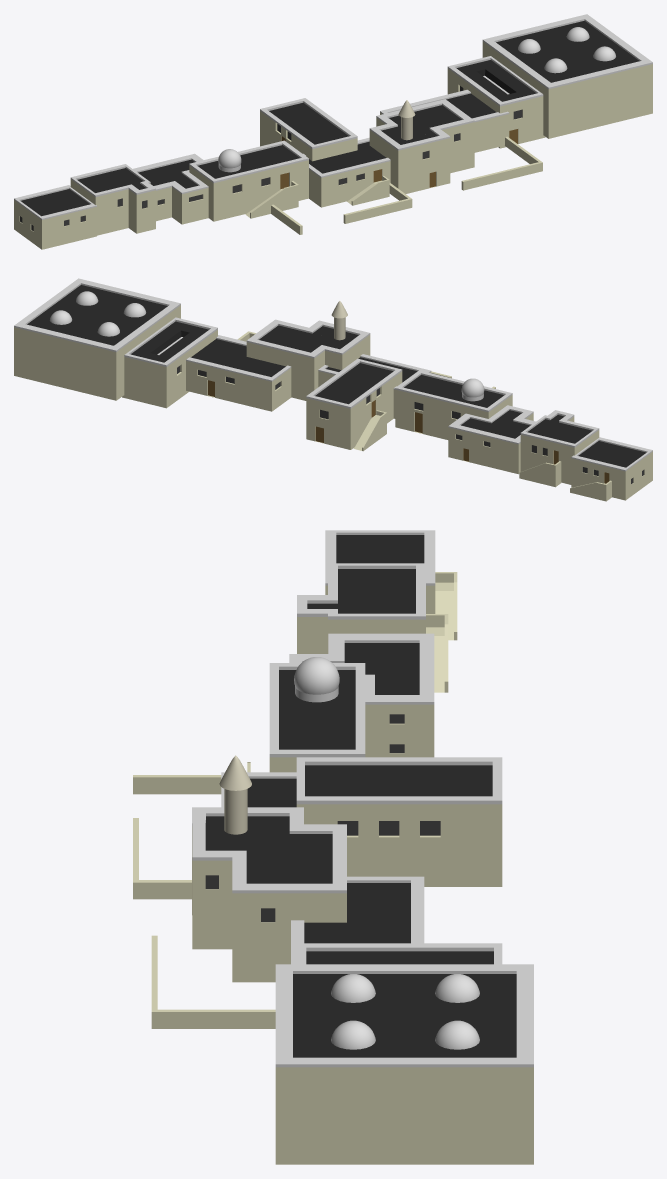
The model's file is house6.obj.
The picture shows the model from 3 angles, top to bottom: view 1: azimuth 30°, elevation 25°; view 2: azimuth 150°, elevation 25°; view 3: azimuth 270°, elevation 25°; orthographic projection. The views are drawn at different scales.
Visible parts, largest first — view 1: unnamed_object1_pasted__pasted__pasted__pasted__pasted__pasted__, unnamed_object1_pasted__lambert10SG3, unnamed_object1_pasted__pasted__lambert10SG2, unnamed_object1_pasted__lambert4SG6, unnamed_object1_pasted__pasted__pasted__pasted__pasted__lambert2, unnamed_object1_pasted__pasted__pasted__pasted__lambert2SG3, unnamed_object1_pasted__lambert3SG7, unnamed_object1_pasted__pasted__pasted__pasted__pasted__lambert4, unnamed_object1_pasted__pasted__pasted__lambert2SG25, unnamed_object1_pasted__pasted__pasted__pasted__pasted__lambert3, unnamed_object1_pasted__pasted__lambert3SG9, unnamed_object1_pasted__pasted__pasted__pasted__lambert4SG3 (+14 smaller); view 2: unnamed_object1_pasted__pasted__pasted__pasted__pasted__pasted__, unnamed_object1_pasted__pasted__pasted__pasted__pasted__lambert2, unnamed_object1_pasted__lambert10SG3, unnamed_object1_pasted__lambert4SG6, unnamed_object1_pasted__pasted__pasted__pasted__pasted__lambert4, unnamed_object1_pasted__pasted__lambert10SG2, unnamed_object1_pasted__lambert3SG7, unnamed_object1_pasted__pasted__pasted__lambert2SG25, unnamed_object1_pasted__pasted__pasted__pasted__lambert2SG3, unnamed_object1_pasted__pasted__pasted__pasted__pasted__lambert3, unnamed_object1_pasted__pasted__lambert3SG9, unnamed_object1_pasted__pasted__lambert4SG10 (+9 smaller); view 3: unnamed_object1_pasted__pasted__pasted__pasted__pasted__pasted__, unnamed_object1_pasted__lambert10SG3, unnamed_object1_pasted__lambert4SG6, unnamed_object1_pasted__pasted__lambert10SG2, unnamed_object1_pasted__lambert3SG7, unnamed_object1_pasted__pasted__pasted__pasted__pasted__lambert4, unnamed_object1_pasted__pasted__lambert3SG9, unnamed_object1_pasted__pasted__lambert4SG10, unnamed_object1_pasted__pasted__pasted__pasted__pasted__lambert3, unnamed_object1_pasted__pasted__pasted__lambert2SG25, unnamed_object1_pasted__pasted__pasted__pasted__lambert4SG3, unnamed_object1_pasted__pasted__pasted__lambert3SG12 (+14 smaller).
Boxes of the visible parts, <box> form: unnamed_object1_pasted__pasted__pasted__pasted__pasted__pasted__: <box>14,98,390,249</box>; unnamed_object1_pasted__lambert10SG3: <box>482,41,652,138</box>; unnamed_object1_pasted__pasted__lambert10SG2: <box>369,117,474,193</box>; unnamed_object1_pasted__lambert4SG6: <box>496,20,639,82</box>; unnamed_object1_pasted__pasted__pasted__pasted__pasted__lambert2: <box>380,68,545,152</box>; unnamed_object1_pasted__pasted__pasted__pasted__lambert2SG3: <box>70,179,155,235</box>; unnamed_object1_pasted__lambert3SG7: <box>482,14,652,94</box>; unnamed_object1_pasted__pasted__pasted__pasted__pasted__lambert4: <box>446,60,536,118</box>; unnamed_object1_pasted__pasted__pasted__lambert2SG25: <box>156,187,208,224</box>; unnamed_object1_pasted__pasted__pasted__pasted__pasted__lambert3: <box>380,56,543,122</box>; unnamed_object1_pasted__pasted__lambert3SG9: <box>369,99,474,150</box>; unnamed_object1_pasted__pasted__pasted__pasted__lambert4SG3: <box>77,168,143,192</box>; unnamed_object1_pasted__pasted__pasted__pasted__pasted__pasted__: <box>306,354,652,500</box>; unnamed_object1_pasted__pasted__pasted__pasted__pasted__lambert2: <box>122,330,386,451</box>; unnamed_object1_pasted__lambert10SG3: <box>14,305,180,400</box>; unnamed_object1_pasted__lambert4SG6: <box>27,285,167,345</box>; unnamed_object1_pasted__pasted__pasted__pasted__pasted__lambert4: <box>131,321,285,376</box>; unnamed_object1_pasted__pasted__lambert10SG2: <box>246,335,370,400</box>; unnamed_object1_pasted__lambert3SG7: <box>14,278,182,354</box>; unnamed_object1_pasted__pasted__pasted__lambert2SG25: <box>448,413,533,474</box>; unnamed_object1_pasted__pasted__pasted__pasted__lambert2SG3: <box>520,417,599,484</box>; unnamed_object1_pasted__pasted__pasted__pasted__pasted__lambert3: <box>124,317,291,381</box>; unnamed_object1_pasted__pasted__lambert3SG9: <box>246,319,370,358</box>; unnamed_object1_pasted__pasted__lambert4SG10: <box>259,325,331,352</box>; unnamed_object1_pasted__pasted__pasted__pasted__pasted__pasted__: <box>221,530,502,886</box>; unnamed_object1_pasted__lambert10SG3: <box>275,1067,533,1164</box>; unnamed_object1_pasted__lambert4SG6: <box>293,974,516,1057</box>; unnamed_object1_pasted__pasted__lambert10SG2: <box>192,826,346,982</box>; unnamed_object1_pasted__lambert3SG7: <box>275,964,533,1067</box>; unnamed_object1_pasted__pasted__pasted__pasted__pasted__lambert4: <box>304,883,493,964</box>; unnamed_object1_pasted__pasted__lambert3SG9: <box>192,807,346,893</box>; unnamed_object1_pasted__pasted__lambert4SG10: <box>246,834,332,883</box>; unnamed_object1_pasted__pasted__pasted__pasted__pasted__lambert3: <box>291,876,502,964</box>; unnamed_object1_pasted__pasted__pasted__lambert2SG25: <box>365,704,434,757</box>; unnamed_object1_pasted__pasted__pasted__pasted__lambert4SG3: <box>338,569,415,613</box>; unnamed_object1_pasted__pasted__pasted__lambert3SG12: <box>289,633,434,704</box>.
Bounding box in the file's own units: 68.33 × 9.47 × 20.22.
